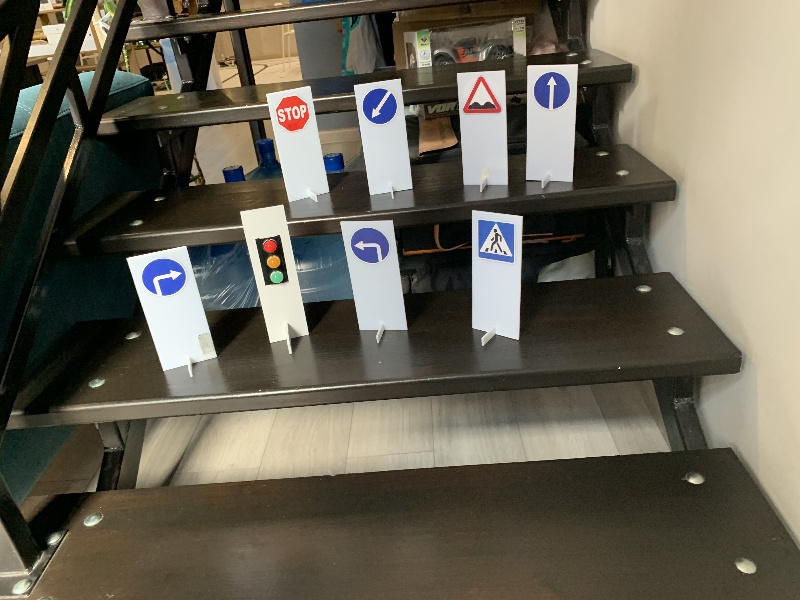Left: (348, 227, 389, 263)
Nerov: (460, 73, 503, 116)
Right: (141, 258, 185, 299)
Stop: (274, 94, 309, 132)
forw: (531, 71, 571, 111)
pesh: (474, 216, 519, 268)
prep: (362, 91, 396, 125)
